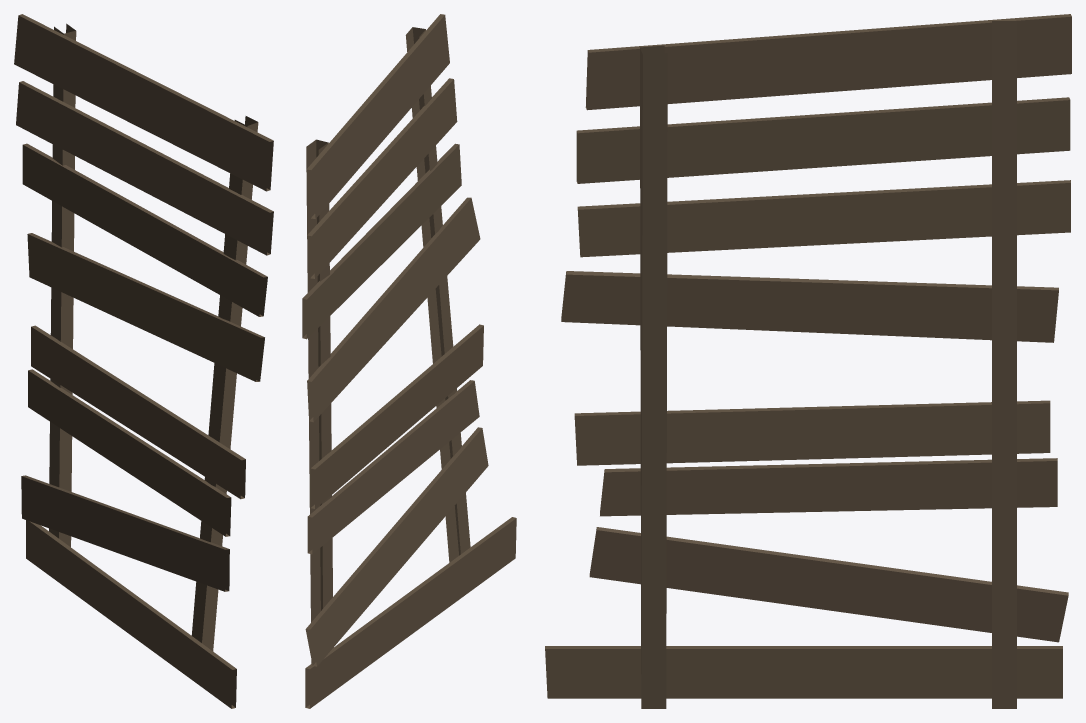
File: Fence_02.fbx
The picture shows the model from 3 angles, left to right: view 1: azimuth 30°, elevation 25°; view 2: azimuth 150°, elevation 25°; view 3: azimuth 270°, elevation 25°; orthographic projection. The views are drawn at different scales.
Visible parts, largest first — view 1: Fence_02; view 2: Fence_02; view 3: Fence_02.
Boxes of the visible parts, left/top/right/bottom form: Fence_02: left=14, top=14, right=273, bottom=708; Fence_02: left=302, top=14, right=516, bottom=708; Fence_02: left=545, top=14, right=1071, bottom=708.
Size of the model in its own units: 0.3503 by 2.48 by 1.73.
